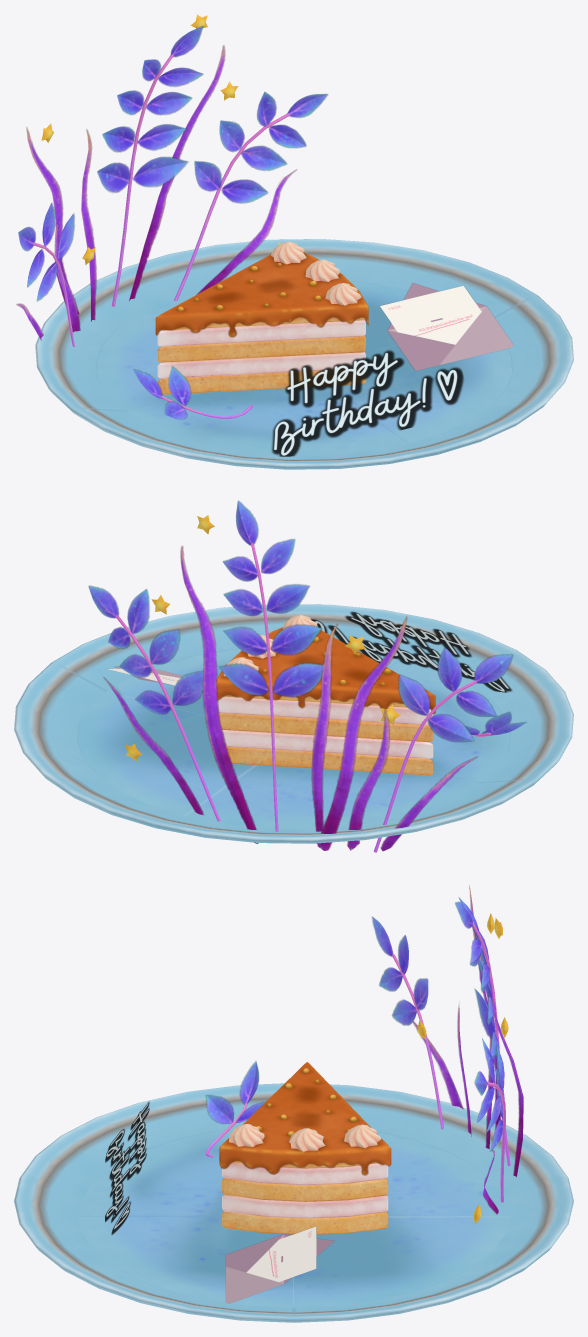
File: birthdaycake.glb
The picture shows the model from 3 angles, top to bottom: view 1: azimuth 30°, elevation 25°; view 2: azimuth 150°, elevation 25°; view 3: azimuth 270°, elevation 25°; orthographic projection. The views are drawn at different scales.
Visible parts, largest first — view 1: plate, HappyBirthdayText, Cylinder005, Plane, Cylinder003, Cylinder, Plane026, Plane028, Plane027, Plane031, BezierCurve003, Plane024 (+17 smaller); view 2: plate, Cylinder, Cylinder003, Cylinder005, HappyBirthdayText, Plane026, Plane024, Plane027, Plane025, Plane030, Plane028, Plane021 (+23 smaller); view 3: plate, Cylinder005, Cylinder, Cylinder003, Plane, HappyBirthdayText, Plane026, Plane015, Cylinder016, Cylinder007, Cylinder004, Plane029 (+1 smaller).
Boxes of the visible parts, x1,y1,x2,y2 form: plate: (35, 239, 573, 469); HappyBirthdayText: (272, 350, 463, 456); Cylinder005: (155, 252, 368, 337); Plane: (379, 283, 513, 370); Cylinder003: (157, 320, 365, 378); Cylinder: (157, 317, 366, 394); Plane026: (129, 45, 225, 300); Plane028: (196, 169, 296, 294); Plane027: (81, 129, 96, 321); Plane031: (132, 156, 188, 187); BezierCurve003: (111, 54, 173, 306); Plane024: (26, 127, 79, 314); plate: (14, 604, 573, 843); Cylinder: (218, 694, 433, 775); Cylinder003: (217, 696, 433, 758); Cylinder005: (216, 627, 435, 713); HappyBirthdayText: (311, 611, 512, 692); Plane026: (180, 546, 258, 843); Plane024: (317, 616, 407, 850); Plane027: (311, 623, 337, 844); Plane025: (347, 709, 389, 850); Plane030: (273, 662, 323, 697); Plane028: (103, 677, 203, 814); Plane021: (270, 624, 322, 655); plate: (14, 1083, 573, 1322); Cylinder005: (219, 1062, 391, 1175); Cylinder: (222, 1160, 388, 1234); Cylinder003: (222, 1162, 388, 1218); Plane: (225, 1226, 334, 1303); HappyBirthdayText: (105, 1101, 149, 1234); Plane026: (489, 964, 523, 1176); Plane015: (205, 1095, 233, 1123); Cylinder016: (344, 1124, 381, 1147); Cylinder007: (289, 1128, 325, 1151); Cylinder004: (229, 1124, 264, 1146); Plane029: (412, 1021, 463, 1109).
Size of the model in its own units: 23.01 by 14.16 by 22.24.
Materials: 7 (7 with a texture image).
